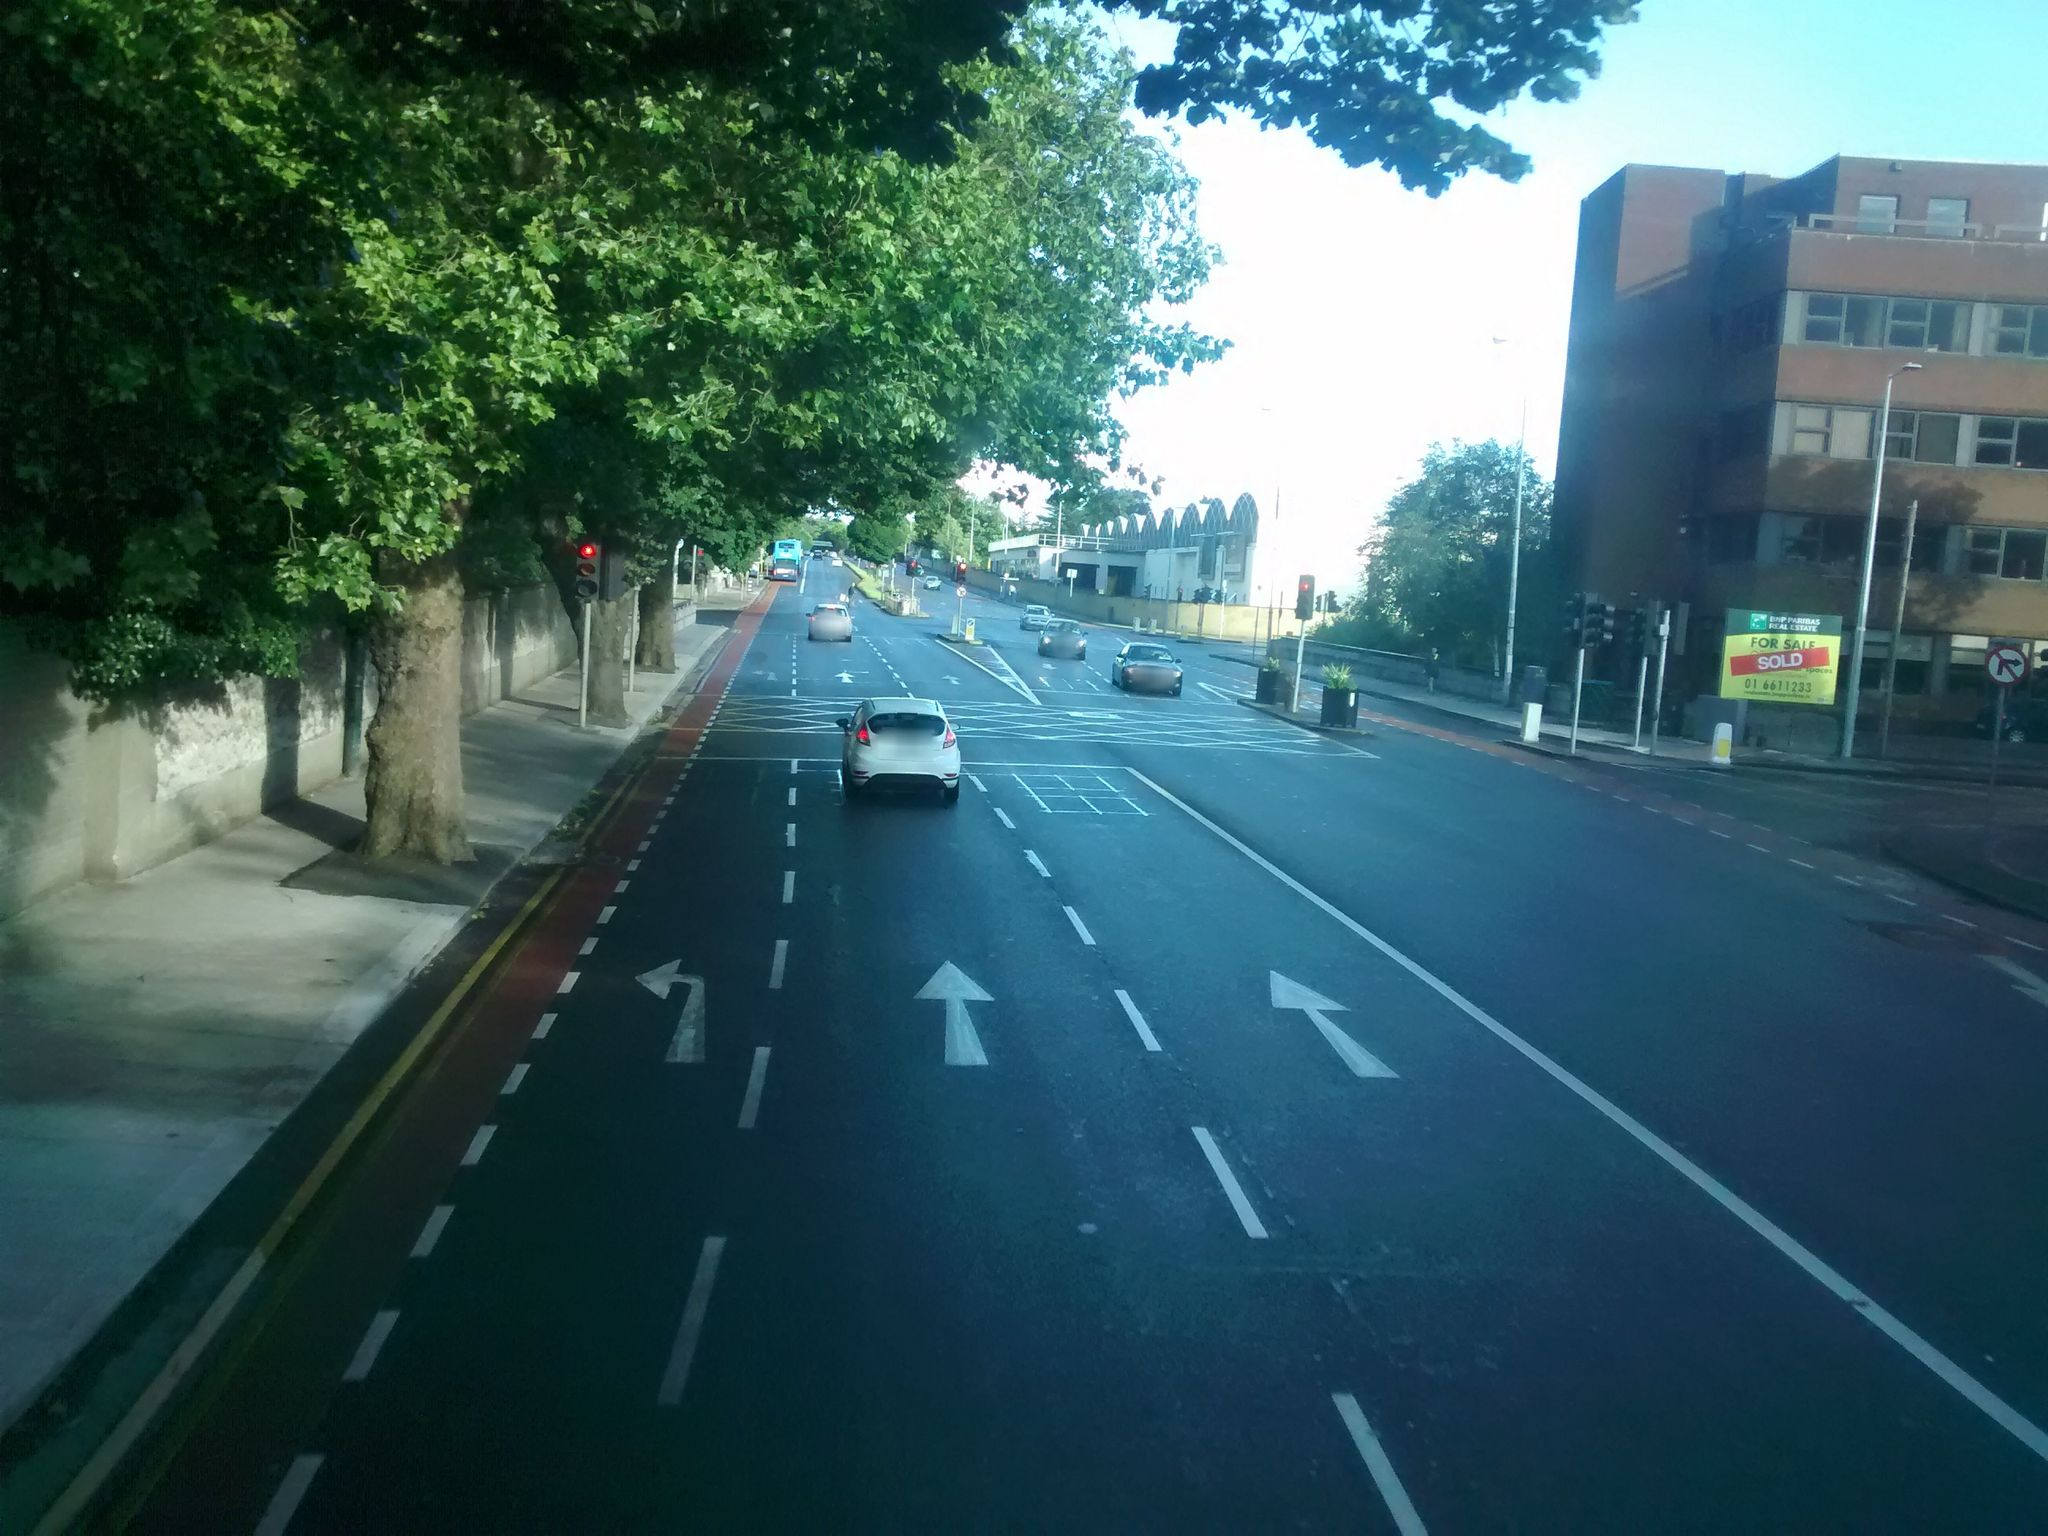property sign: (1705, 578, 1850, 723)
